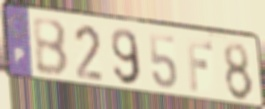2: (72, 23, 106, 84)
5: (147, 32, 178, 91)
8: (222, 40, 255, 102)
9: (110, 27, 143, 87)
B: (30, 17, 71, 79)
F: (185, 37, 214, 94)
